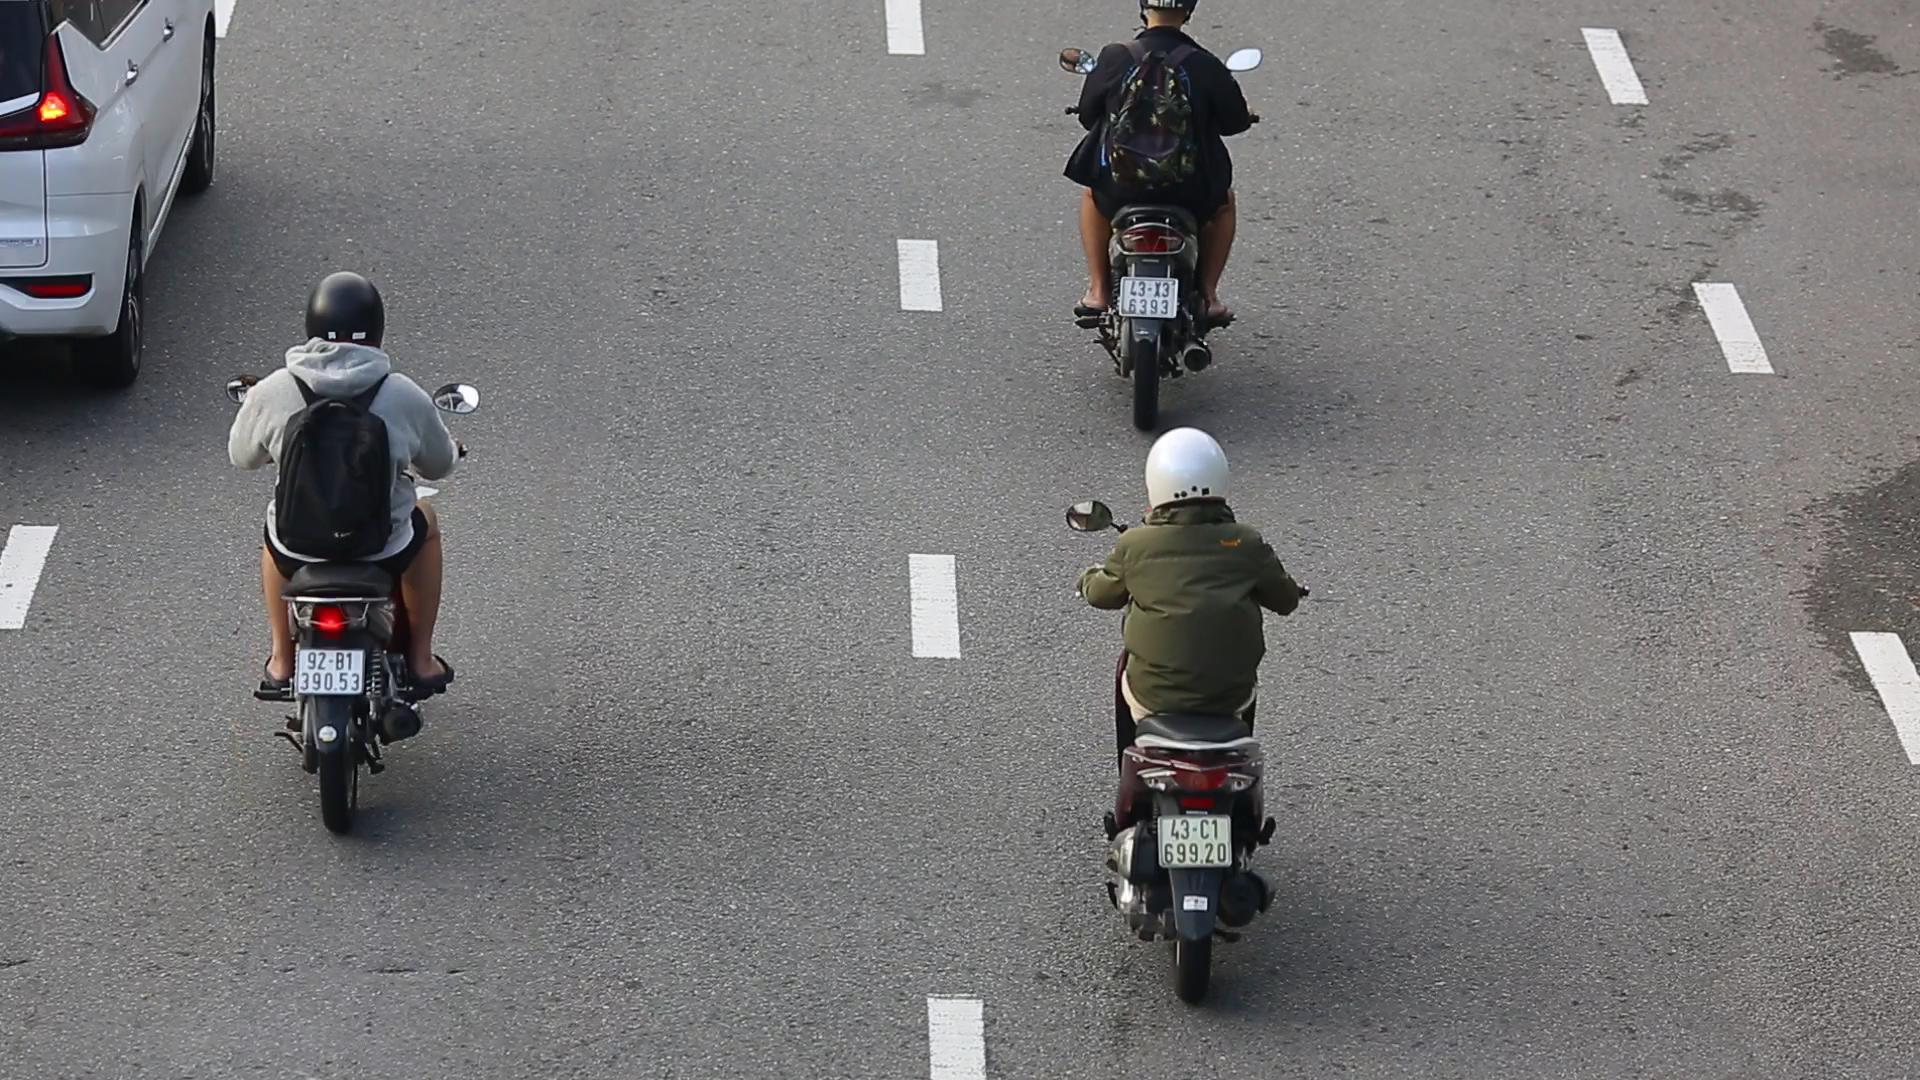motobike: (1065, 411, 1317, 997), (231, 252, 463, 841)
